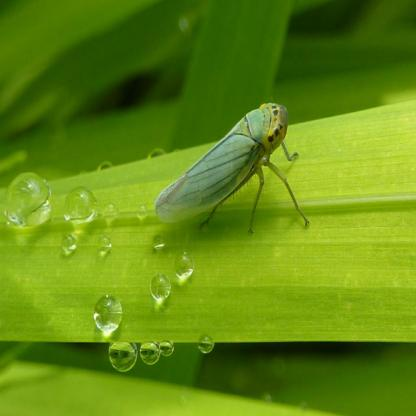Green-Leafhopper: (146, 102, 316, 238)
